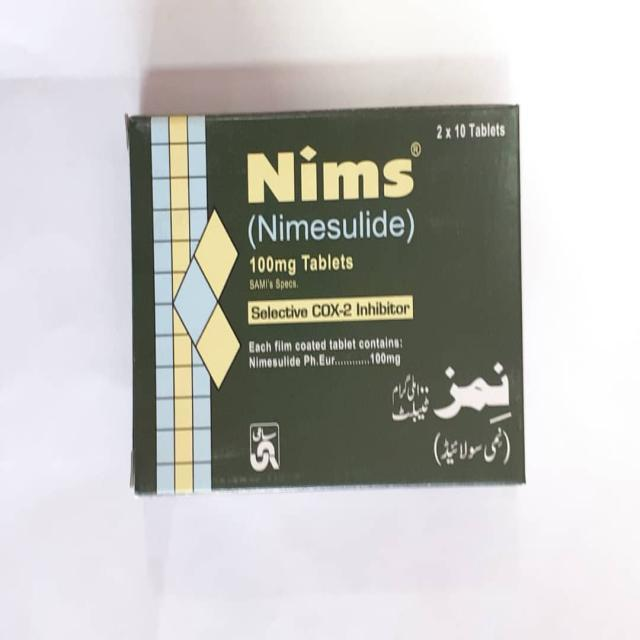drug-name: (242, 146, 414, 204)
